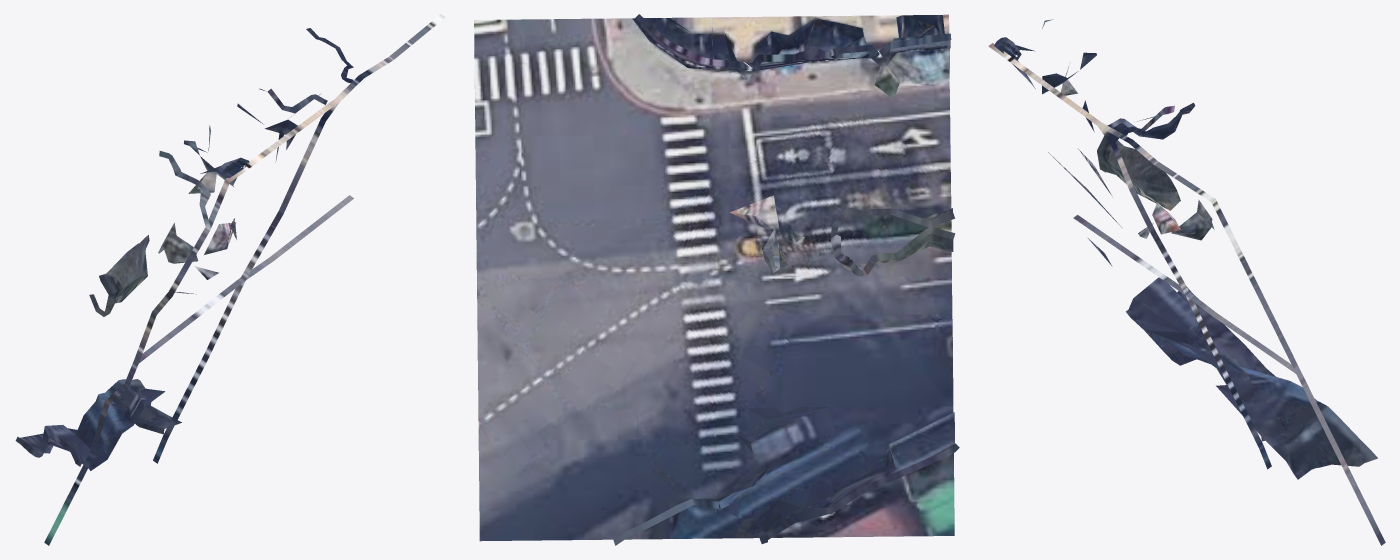
The picture shows the model from 3 angles, left to right: view 1: azimuth 30°, elevation 25°; view 2: azimuth 150°, elevation 25°; view 3: azimuth 270°, elevation 25°; orthographic projection. The views are drawn at different scales.
Bounding box in the file's own units: 39.73 × 37.44 × 32.05.
Materials: 1 (1 with a texture image).
